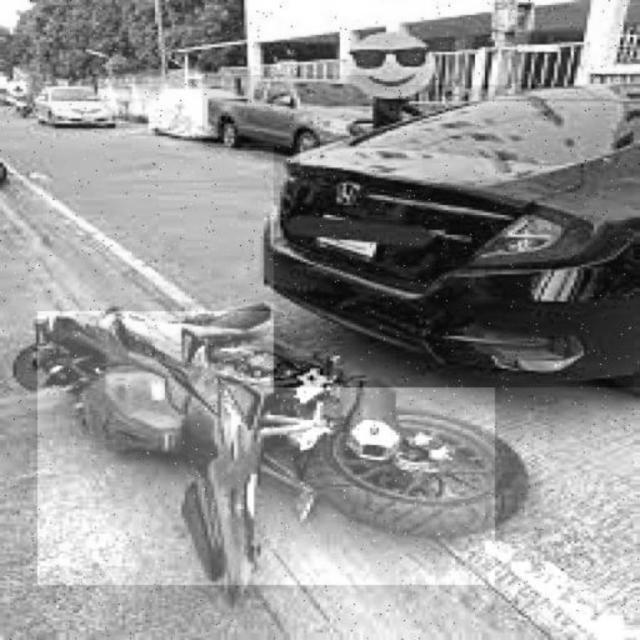vehicle: (37, 312, 495, 585), (274, 85, 640, 387), (203, 75, 375, 148), (35, 81, 109, 132)
